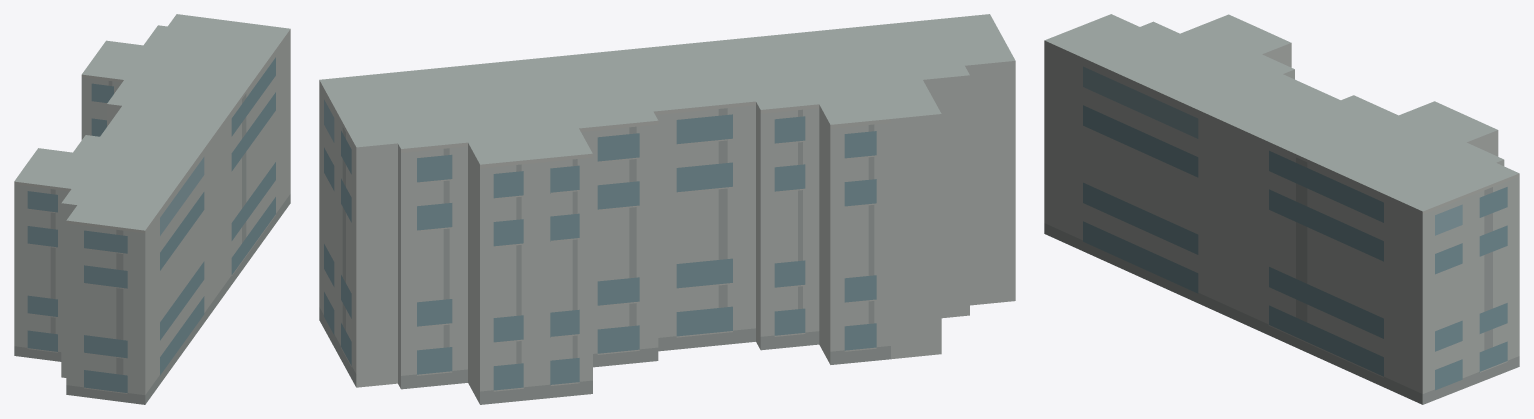
The model's file is residential-1a6b18fe-a156-4753-b9e1-9df236a98052.glb.
The picture shows the model from 3 angles, left to right: view 1: azimuth 30°, elevation 25°; view 2: azimuth 150°, elevation 25°; view 3: azimuth 270°, elevation 25°; orthographic projection. The views are drawn at different scales.
Visible parts, largest first — view 1: residential-1a6b18fe-a156-4753-b9e1-9df236a98052.tmp; view 2: residential-1a6b18fe-a156-4753-b9e1-9df236a98052.tmp; view 3: residential-1a6b18fe-a156-4753-b9e1-9df236a98052.tmp.
Part boxes in pixels (x1=…): residential-1a6b18fe-a156-4753-b9e1-9df236a98052.tmp: x1=14, y1=14, x2=290, y2=404; residential-1a6b18fe-a156-4753-b9e1-9df236a98052.tmp: x1=319, y1=14, x2=1015, y2=404; residential-1a6b18fe-a156-4753-b9e1-9df236a98052.tmp: x1=1044, y1=14, x2=1519, y2=404.
Size of the model in its own units: 33.41 by 15.25 by 33.96.
